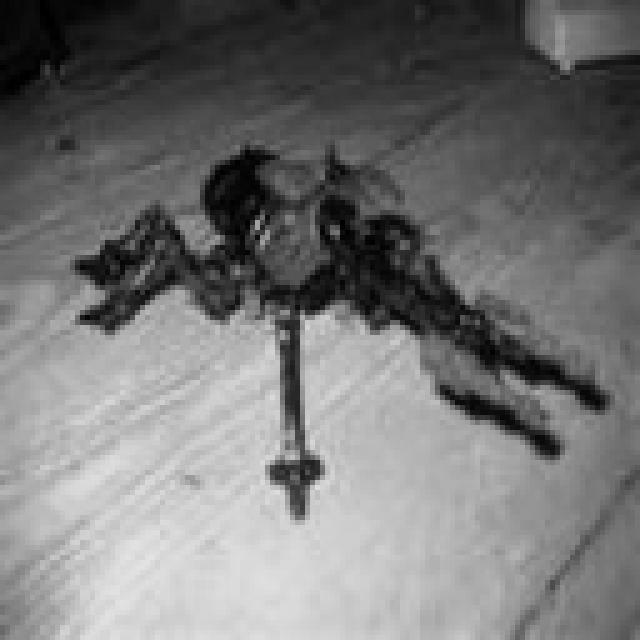Rifle: (319, 216, 639, 470)
